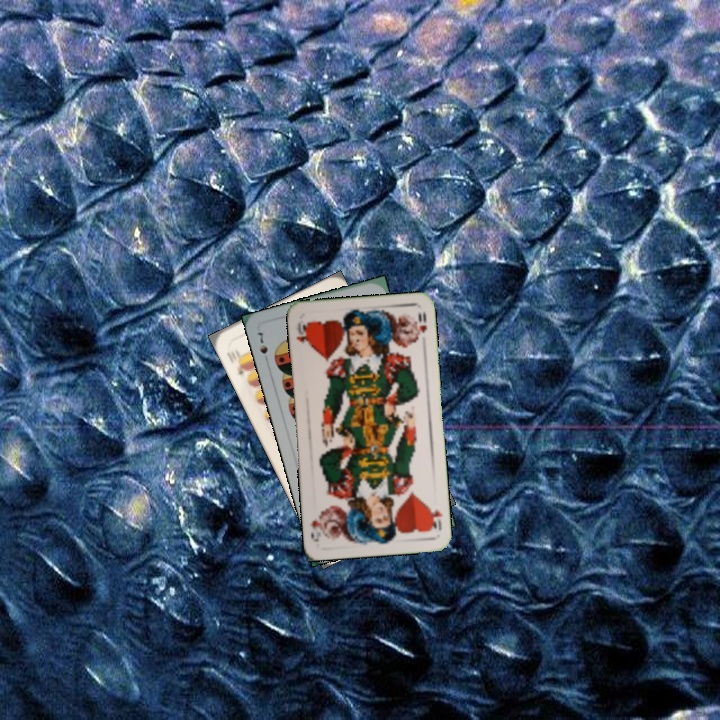E10: (222, 348, 250, 377)
HO: (425, 501, 446, 533), (292, 318, 312, 348)
S7: (254, 328, 271, 366)
